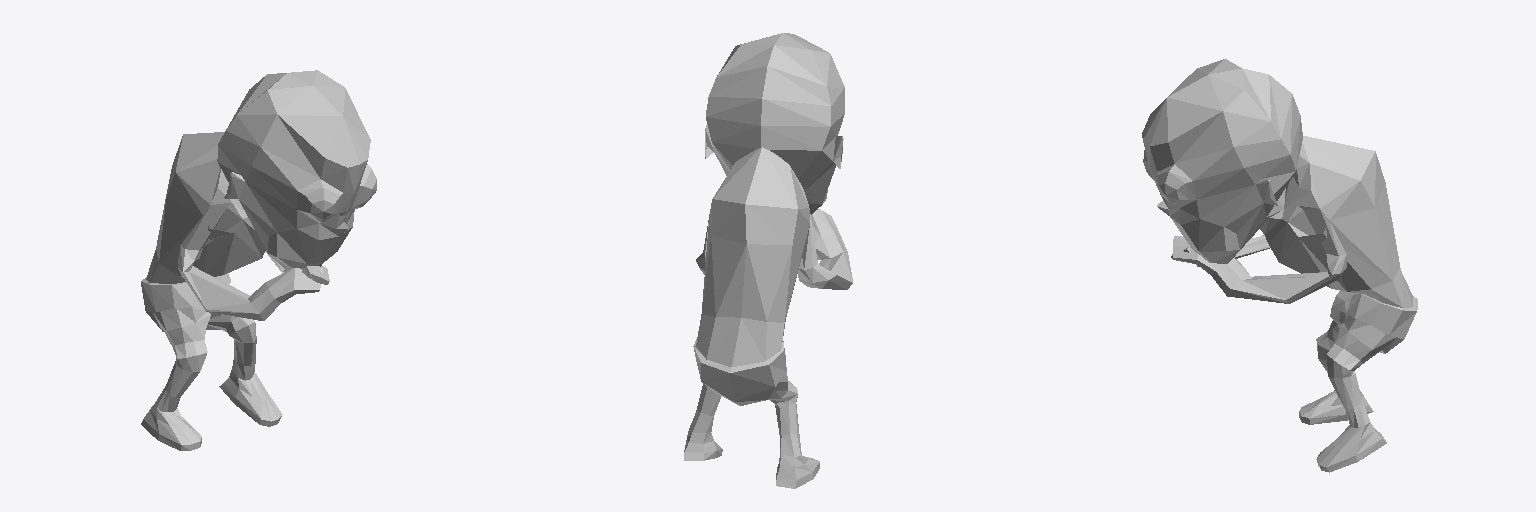
Rendered from GuardianNormal_000043.obj.
3 views of the same model, side by side, from view 1: azimuth 30°, elevation 25°; view 2: azimuth 150°, elevation 25°; view 3: azimuth 270°, elevation 25° (orthographic).
Visible parts, largest first — view 1: untitled2:Mesh1.001; view 2: untitled2:Mesh1.001; view 3: untitled2:Mesh1.001.
Boxes of the visible parts, x1,y1,x2,y2 form: untitled2:Mesh1.001: [141, 70, 376, 450]; untitled2:Mesh1.001: [684, 33, 852, 488]; untitled2:Mesh1.001: [1142, 59, 1417, 472].
Size of the model in its own units: 5.47 by 14.14 by 9.13.